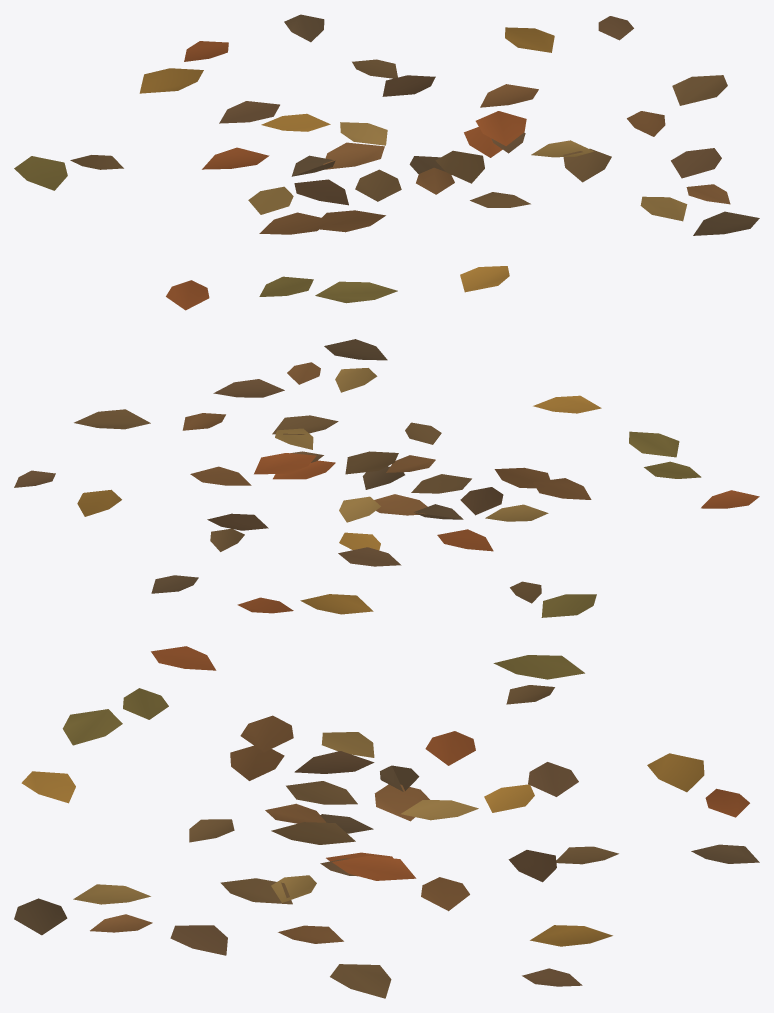
The model's file is ph_env_leaves_1.glb.
The picture shows the model from 3 angles, top to bottom: view 1: azimuth 30°, elevation 25°; view 2: azimuth 150°, elevation 25°; view 3: azimuth 270°, elevation 25°; orthographic projection. The views are drawn at different scales.
Visible parts, largest first — view 1: ph_env_leaves_1; view 2: ph_env_leaves_1; view 3: ph_env_leaves_1.
Boxes of the visible parts, x1=… form: ph_env_leaves_1: x1=14, y1=14, x2=759, y2=310; ph_env_leaves_1: x1=14, y1=339, x2=759, y2=617; ph_env_leaves_1: x1=14, y1=646, x2=759, y2=998.
Bounding box in the file's own units: 0.8195 × 0.0112 × 0.7373.
